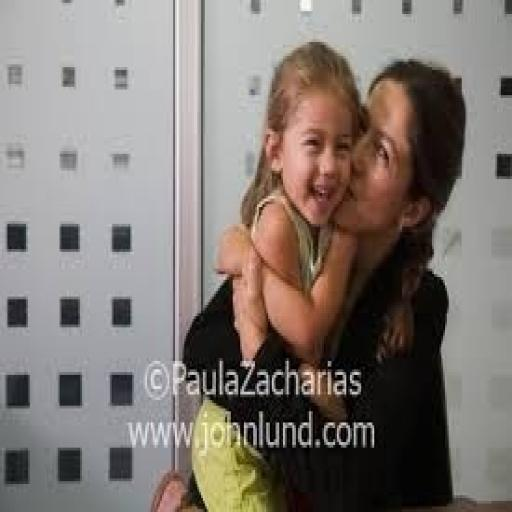hugging: (154, 39, 466, 509)
